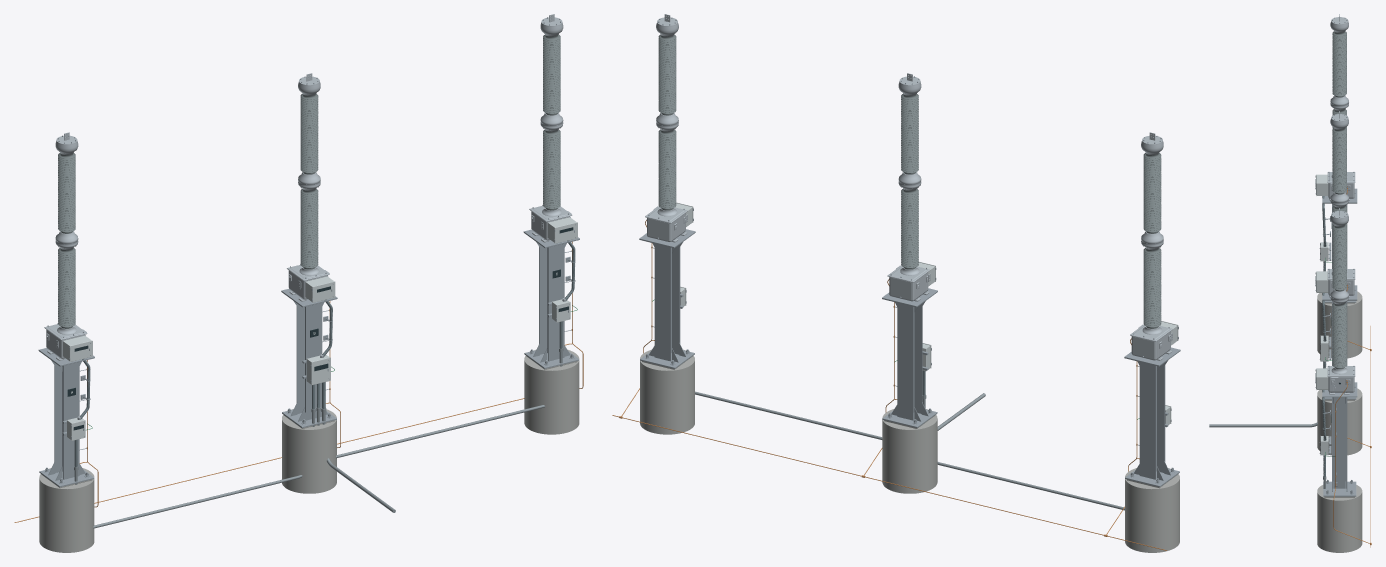
Rendered from cvt-wide-flange-stand-assembled.glb.
3 views of the same model, side by side, from view 1: azimuth 30°, elevation 25°; view 2: azimuth 150°, elevation 25°; view 3: azimuth 270°, elevation 25° (orthographic). The views are drawn at different scales.
Visible parts, largest first — view 1: Object100191, Object100824, Object100511, Object100470, Object100140, Object100783, Object100666, Object100667, Object100025, Object100024, Object100354, Object100355 (+2 smaller); view 2: Object100511, Object100824, Object100191, Object100470, Object100140, Object100783, Object100024, Object100025, Object100354, Object100355, Object100666, Object100667 (+6 smaller); view 3: Object100824, Object100511, Object100191, Object100140, Object100024, Object100355, Object100025, Object100667, Object100012, Object100747, Object100807, Object100654 (+9 smaller).
Boxes of the visible parts, x1,y1,x2,y2 form: Object100191: (39, 468, 94, 552); Object100824: (524, 349, 579, 434); Object100511: (282, 409, 336, 493); Object100470: (54, 362, 79, 479); Object100140: (539, 243, 564, 361); Object100783: (296, 303, 322, 420); Object100666: (300, 188, 318, 269); Object100667: (300, 93, 318, 174); Object100025: (543, 34, 560, 115); Object100024: (543, 129, 560, 210); Object100354: (58, 248, 75, 328); Object100355: (58, 153, 75, 233); Object100511: (882, 409, 937, 493); Object100824: (640, 349, 694, 434); Object100191: (1125, 468, 1179, 552); Object100470: (1139, 362, 1165, 479); Object100140: (654, 243, 680, 361); Object100783: (897, 303, 922, 420); Object100024: (658, 129, 676, 210); Object100025: (658, 34, 676, 115); Object100354: (1143, 248, 1161, 328); Object100355: (1143, 153, 1161, 233); Object100666: (901, 189, 918, 269); Object100667: (901, 94, 918, 174); Object100824: (1317, 485, 1362, 552); Object100511: (1317, 388, 1362, 455); Object100191: (1317, 291, 1362, 358); Object100140: (1332, 397, 1347, 491); Object100024: (1332, 303, 1346, 369); Object100355: (1332, 31, 1346, 97); Object100025: (1332, 225, 1346, 291); Object100667: (1332, 128, 1346, 194); Object100012: (1328, 366, 1354, 392); Object100747: (1209, 422, 1317, 427); Object100807: (1323, 481, 1356, 496); Object100654: (1328, 269, 1354, 295).
Bounding box in the file's own units: 10.45 × 7.36 × 3.24.
